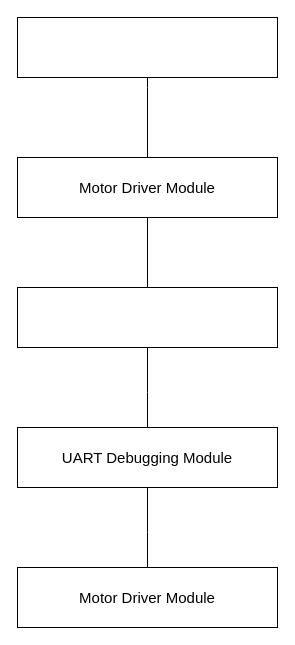
This 295x645 diagram has some shape labels left out. The shapes that lost their labels are listed below. From the top down, each one's centre as x and y in pixels, then its label:
At (x=147, y=47): "Encoder Acquisition Module".
At (x=147, y=317): "PID Controller Module".
